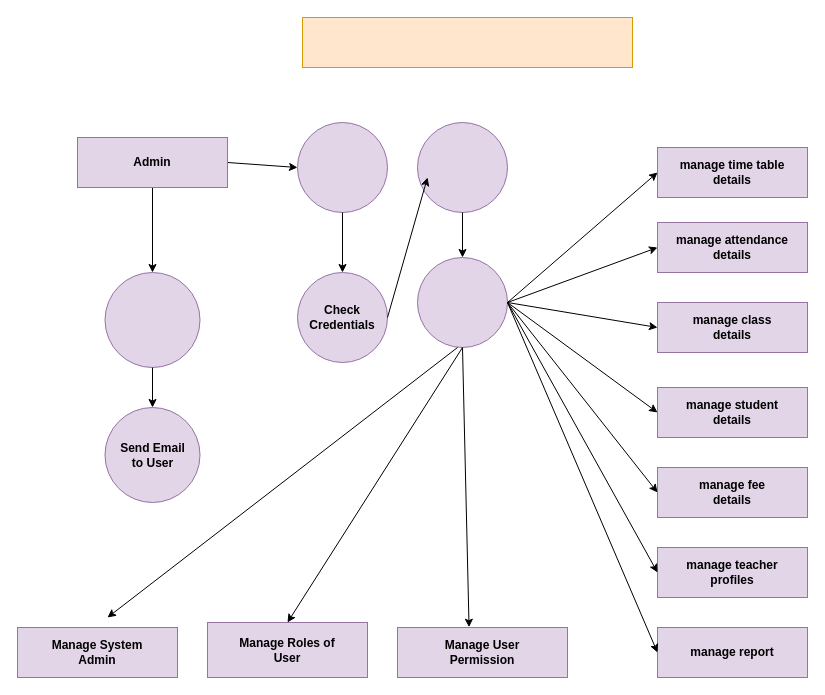
Some shapes in this 825 by 695 pixel diagram are drawn without their labels. The centre of each missing label's shape, as x and y in pixels:
Check roles of access: (462,167)
Forgot Password: (152,320)
Login to System: (342,167)
Manage Modules: (462,302)
STUDENT INFORMATION SYSTEM: (467,42)
